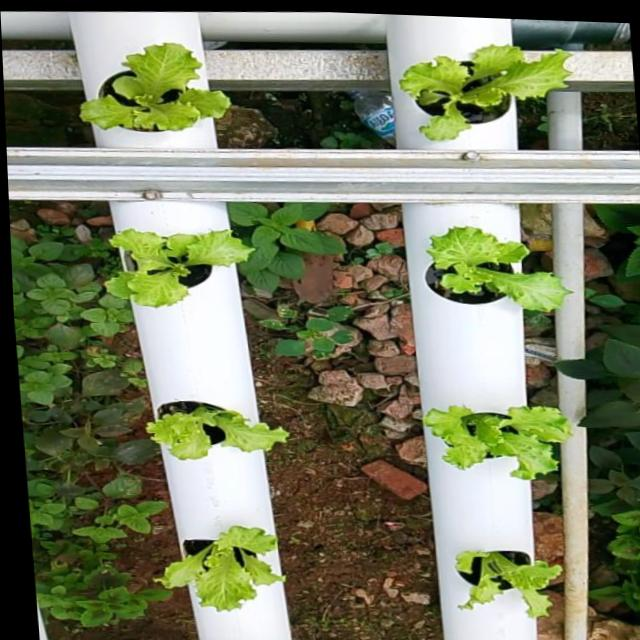Baby: (409, 53, 582, 148), (89, 47, 239, 151), (428, 227, 575, 312), (114, 233, 265, 311), (160, 525, 290, 610), (427, 406, 576, 480), (151, 401, 293, 460), (460, 550, 566, 616)
